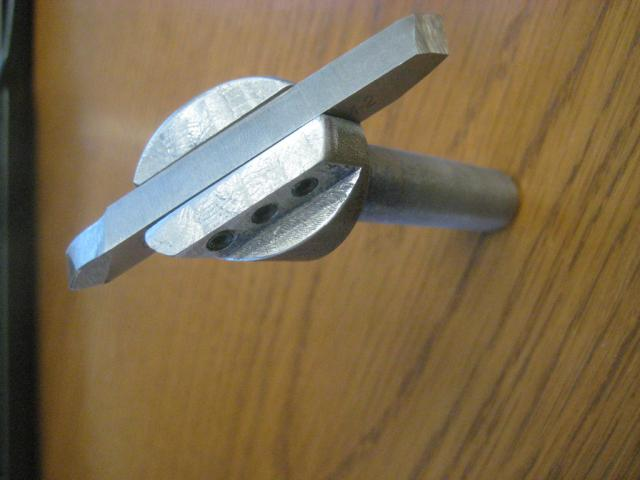Door-handle: (66, 10, 526, 294)
